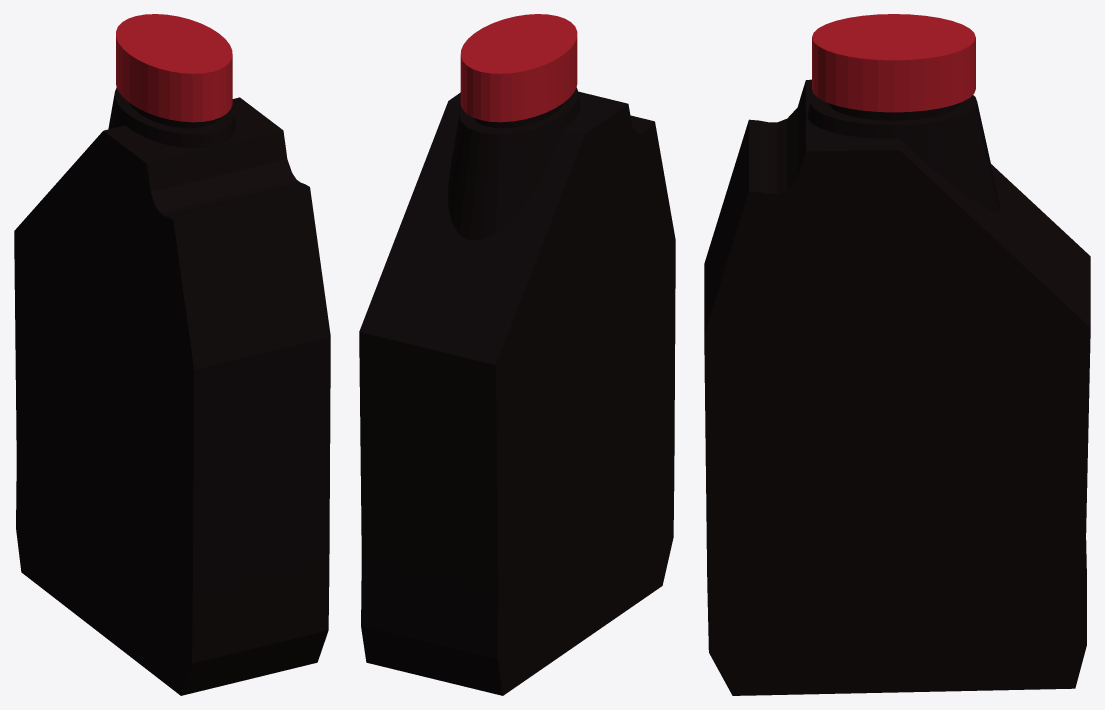
The model's file is olimotor.glb.
3 renders of one model, left to right at view 1: azimuth 30°, elevation 25°; view 2: azimuth 150°, elevation 25°; view 3: azimuth 270°, elevation 25°, orthographic. The views are drawn at different scales.
Visible parts, largest first — view 1: Cube; view 2: Cube; view 3: Cube.
Boxes of the visible parts, bbox=[...] form: Cube: bbox=[14, 14, 330, 695]; Cube: bbox=[359, 14, 675, 695]; Cube: bbox=[704, 14, 1090, 695].
Bounding box in the file's own units: 1.28 × 5.21 × 2.93.
